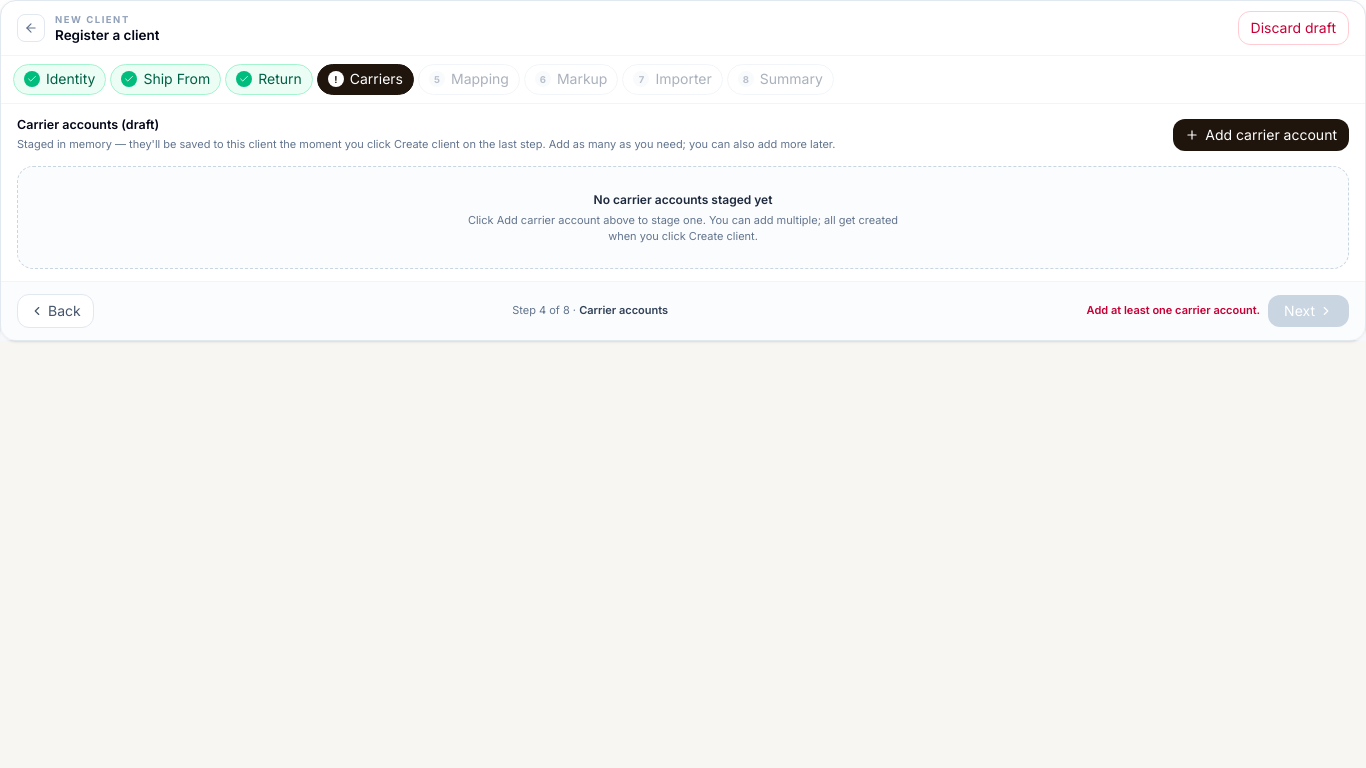
CarrierDraftStep — negative cases › invalid account number pattern for UPS → error
Expected: the heading "Carrier accounts (draft)" is shown, [17,117,159,132]
Click the button "Add carrier account": [1261, 135] box [1173,118,1349,151]
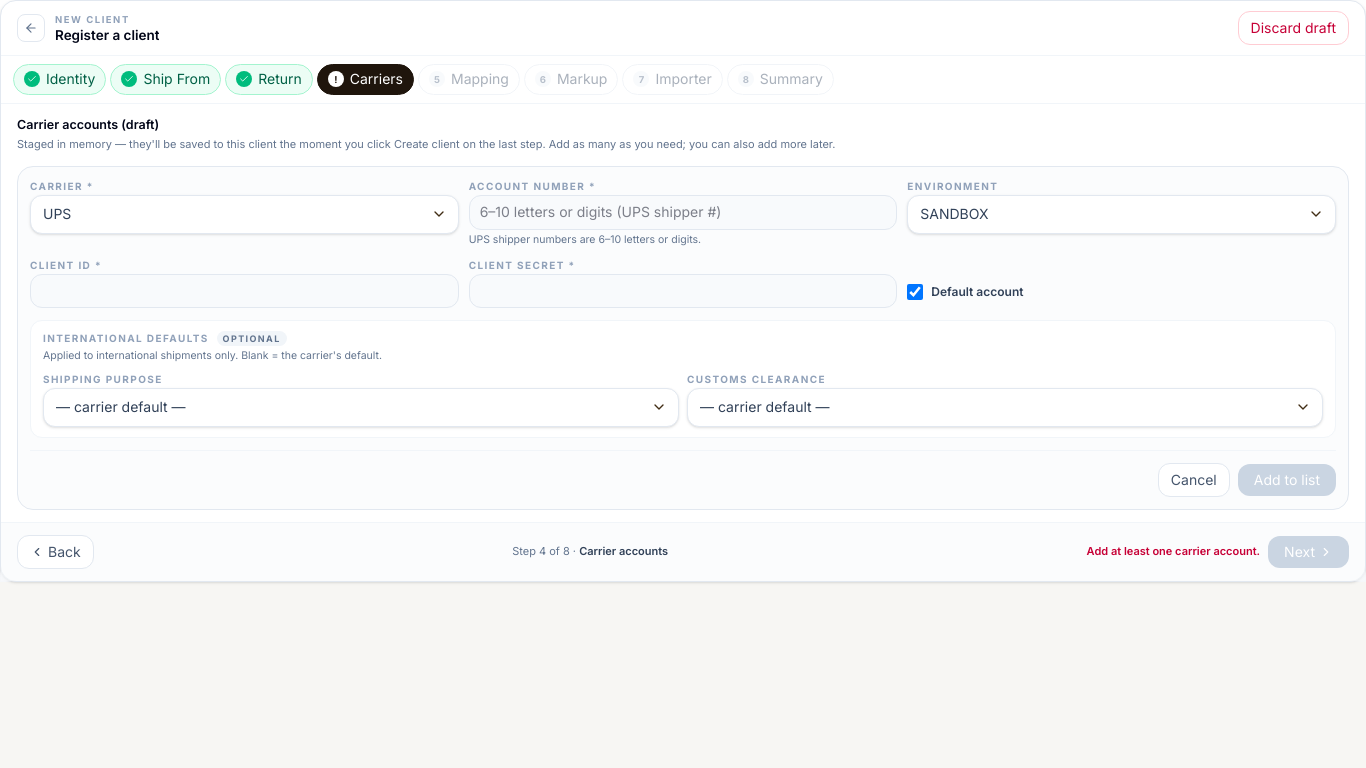
In the 1st field: [683, 212] box [469,195,897,230], type "12345"
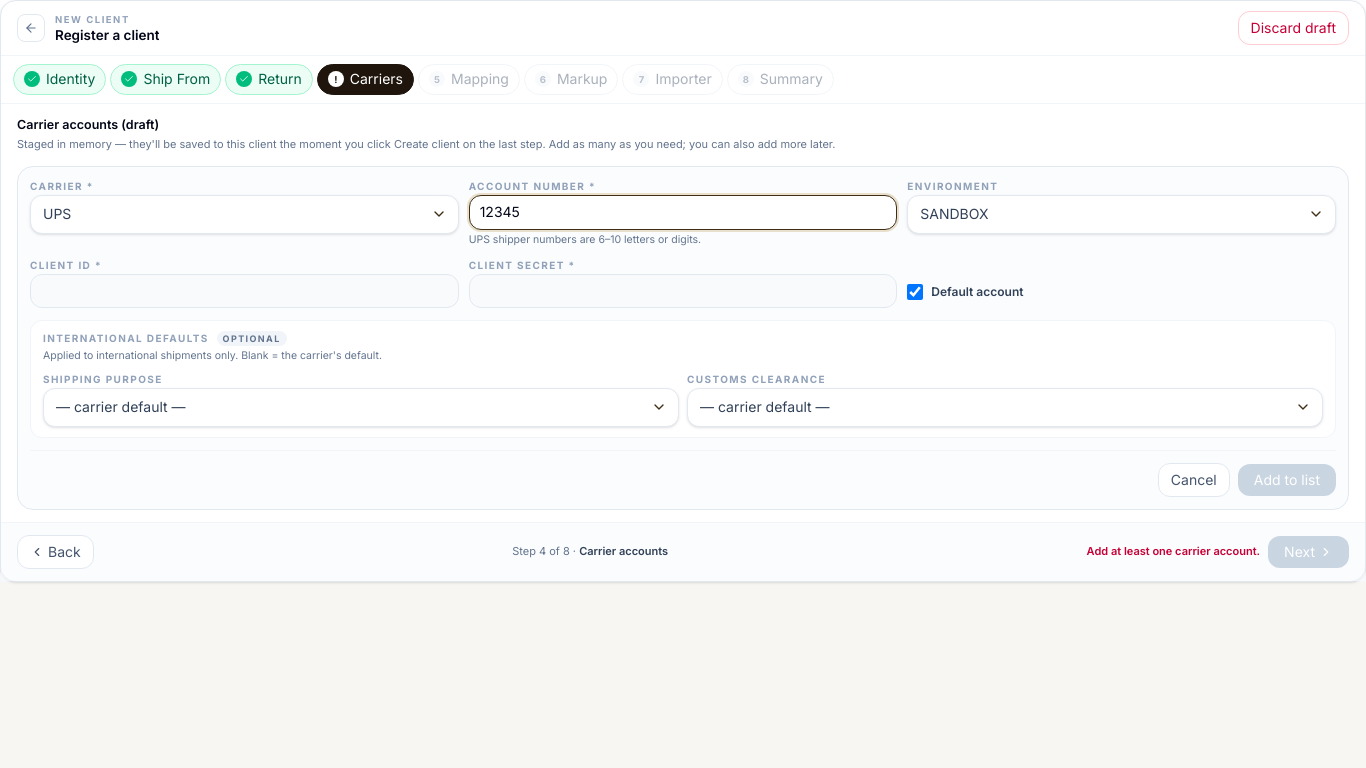
Leave the 1st field, box [469,195,897,230]
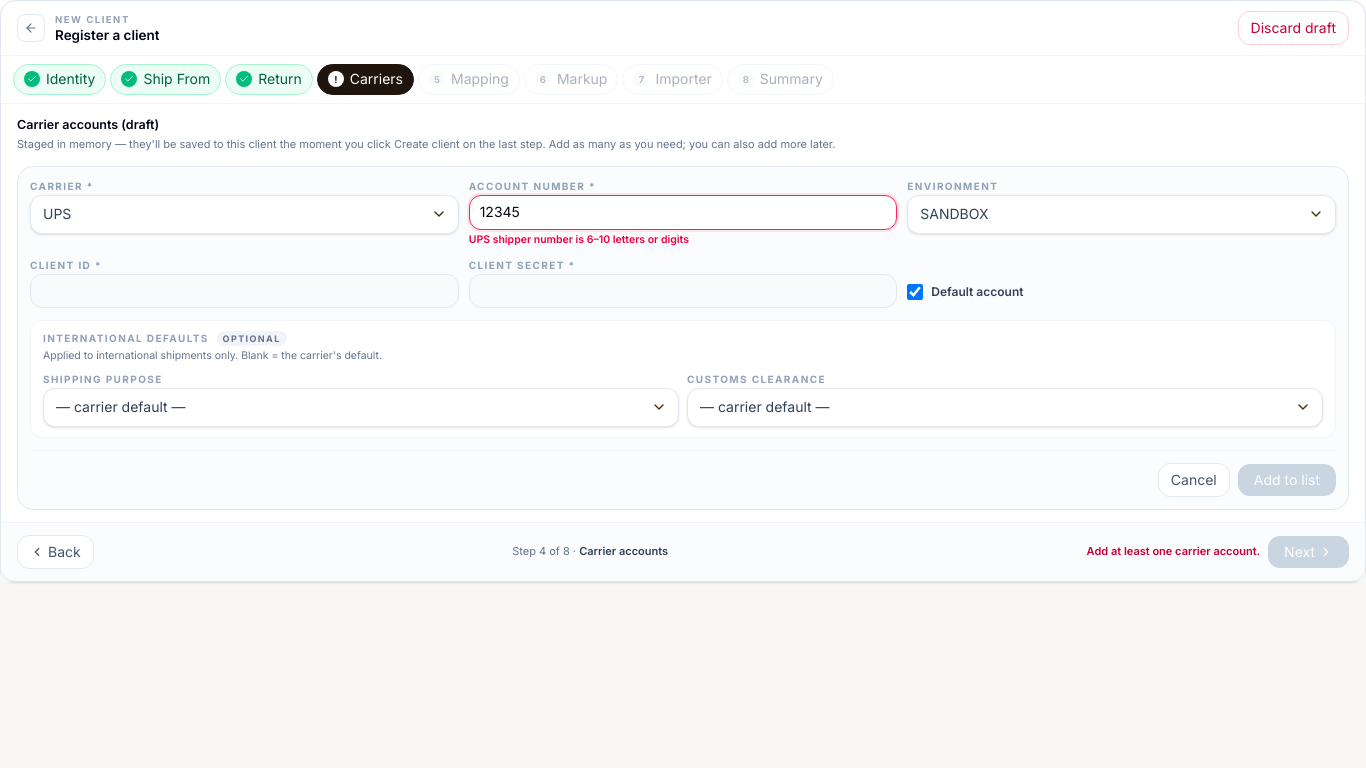
Expected: the text "UPS shipper number is 6–10 letters or digits" is shown, [469,232,689,246]
